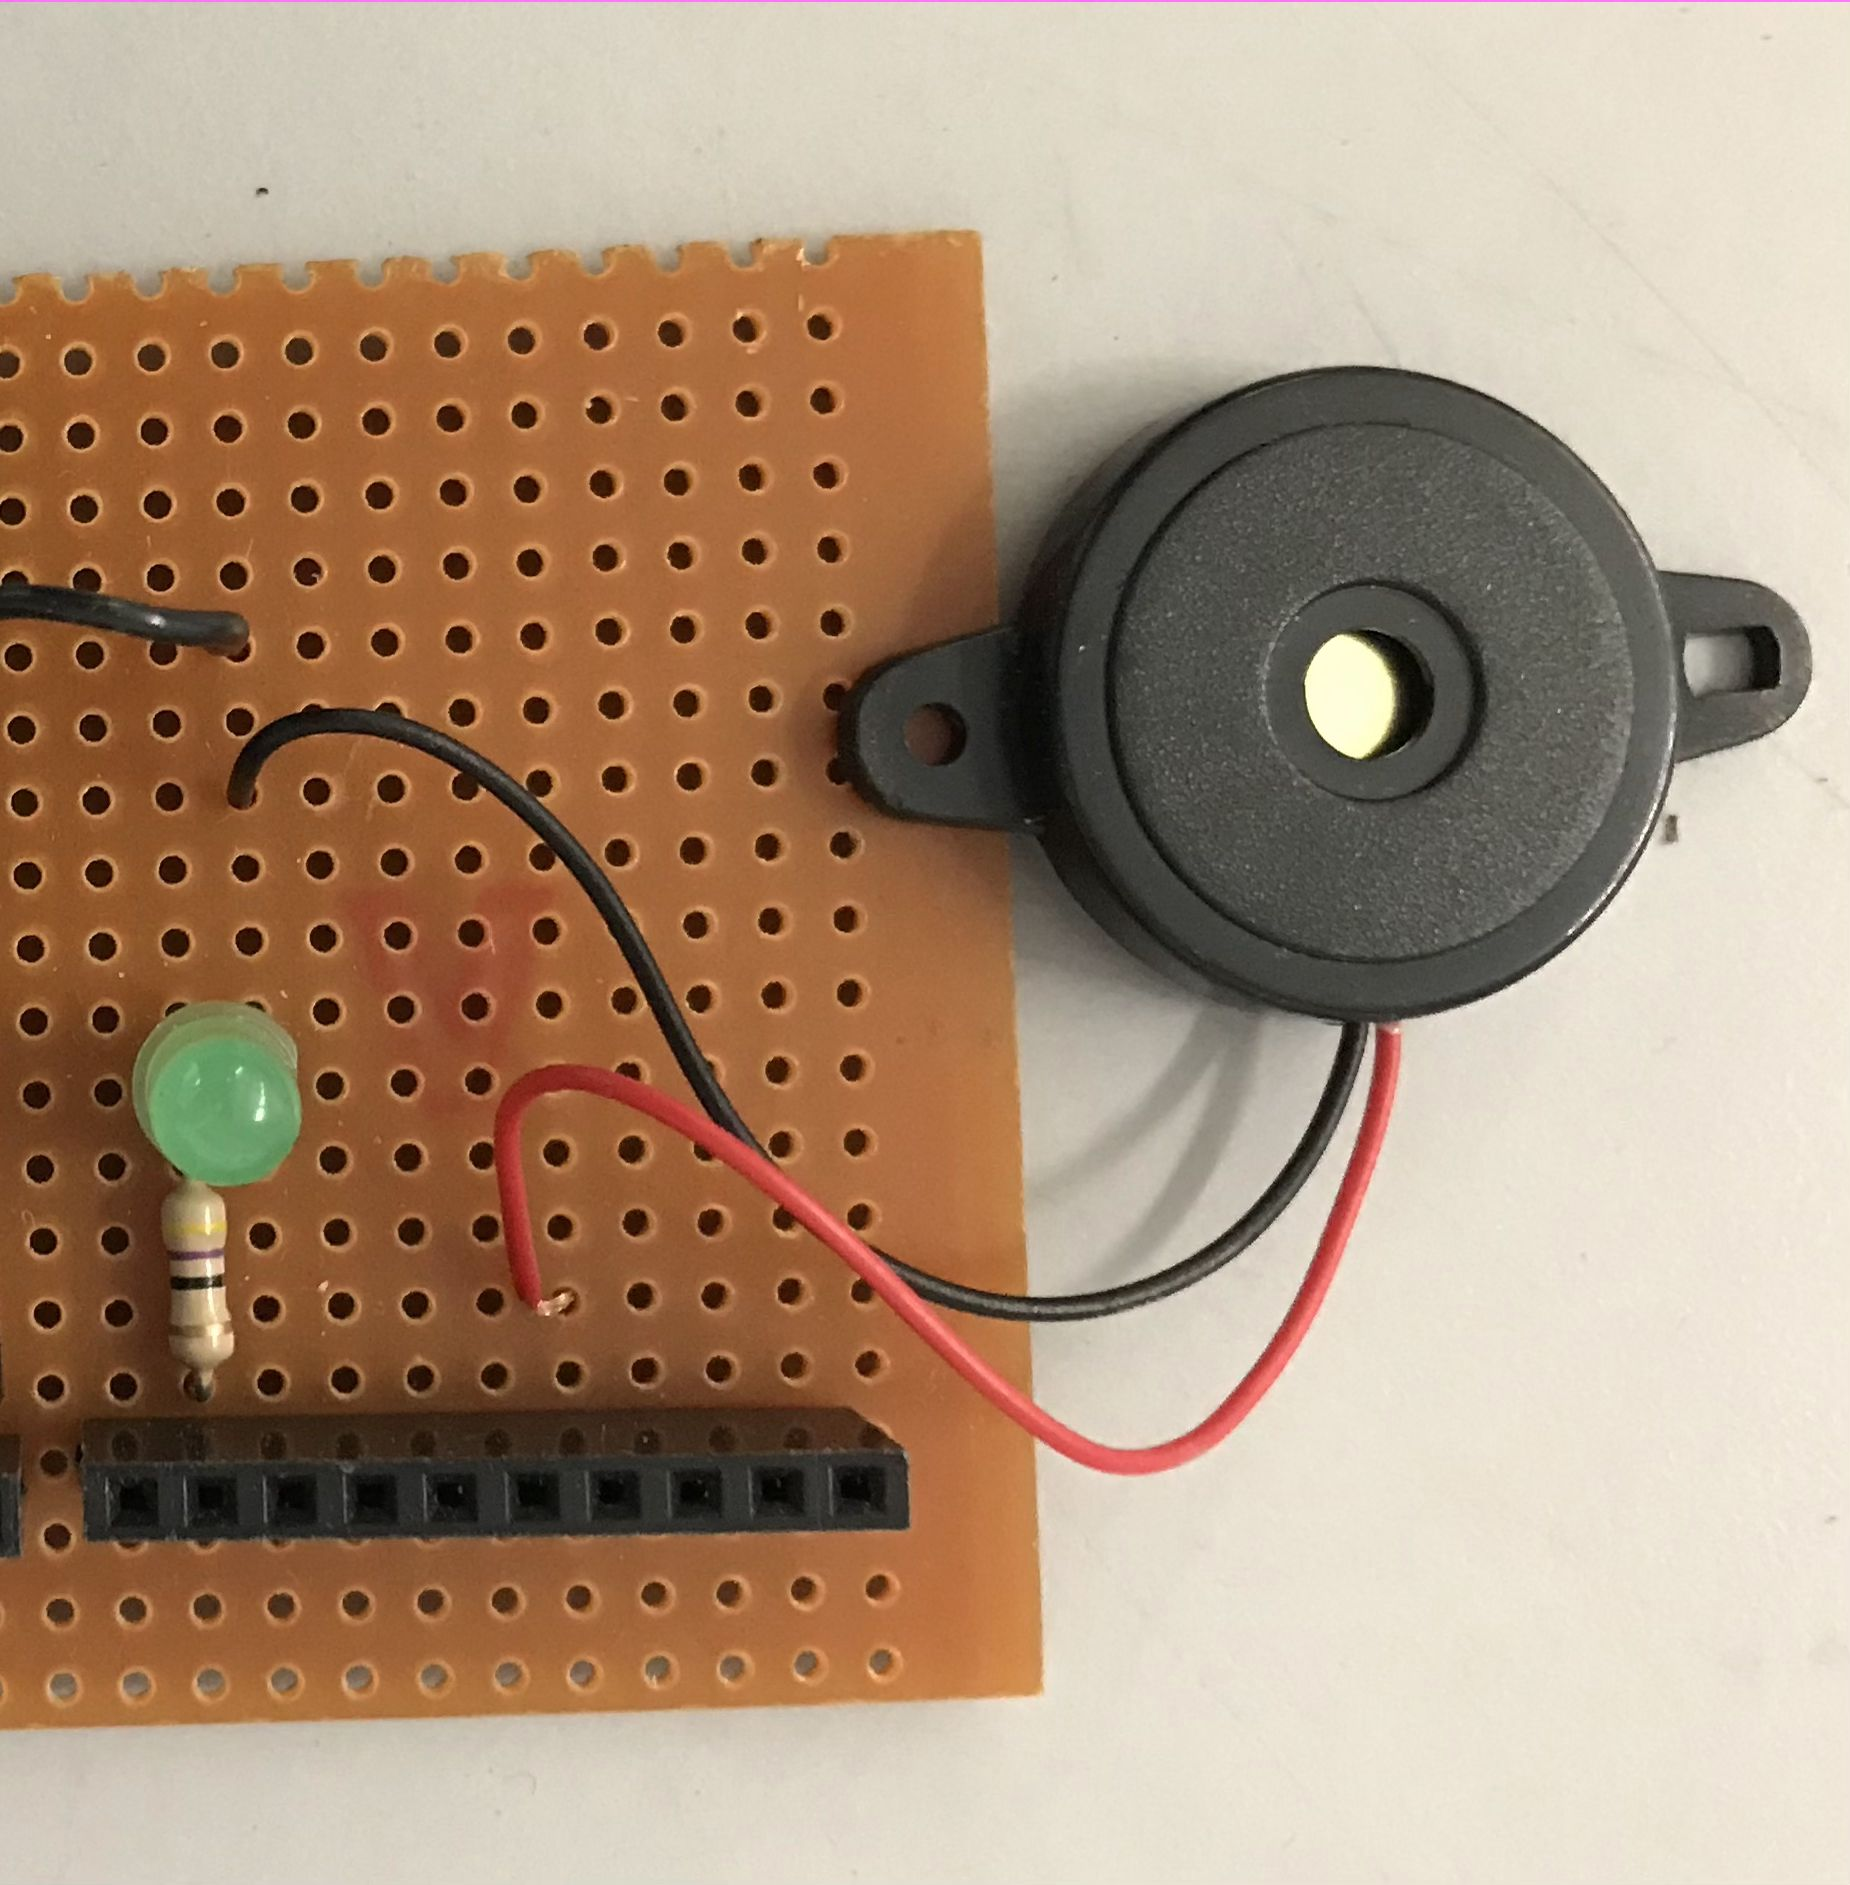LED: (120, 994, 305, 1196)
Resistor: (144, 1175, 246, 1389)
